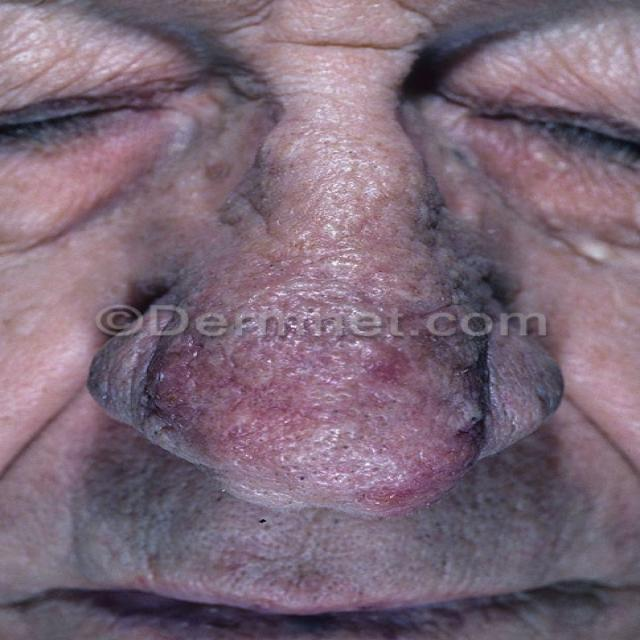Rosacea: (154, 196, 491, 502)
